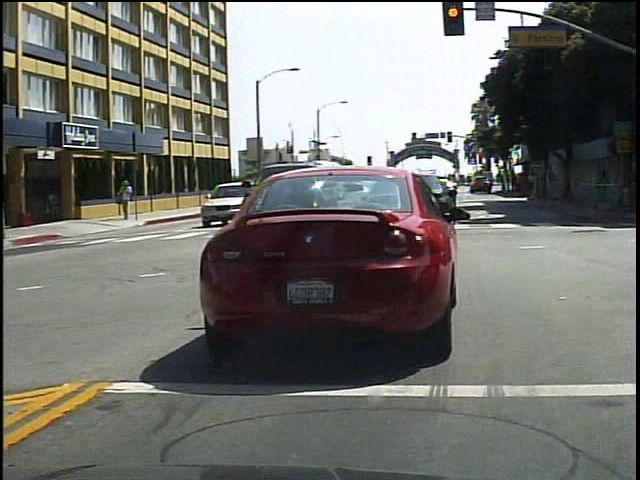person: (117, 175, 139, 224)
